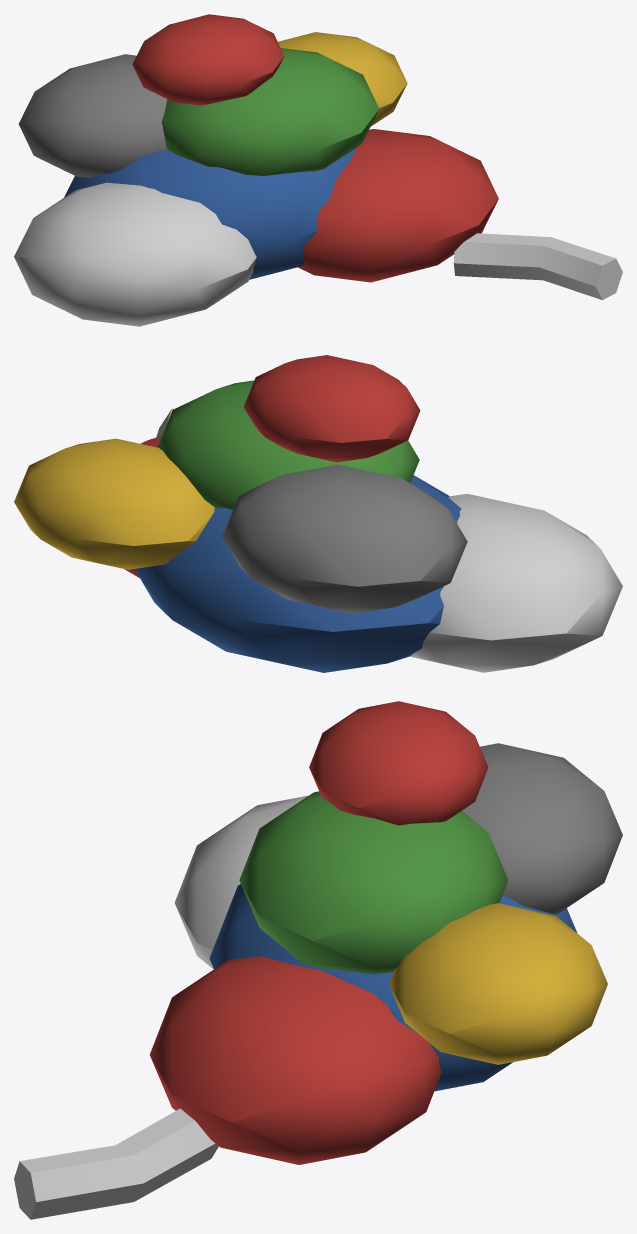
The model's file is laundry_pile.glb.
3 renders of one model, top to bottom at view 1: azimuth 30°, elevation 25°; view 2: azimuth 150°, elevation 25°; view 3: azimuth 270°, elevation 25°, orthographic. The views are drawn at different scales.
Parts seen in each view (by area): view 1: body; view 2: body; view 3: body.
Boxes of the visible parts, bbox=[...] form: body: bbox=[14, 14, 622, 326]; body: bbox=[14, 355, 622, 672]; body: bbox=[14, 701, 622, 1219].
Size of the model in its own units: 1.53 by 0.738 by 1.22.
